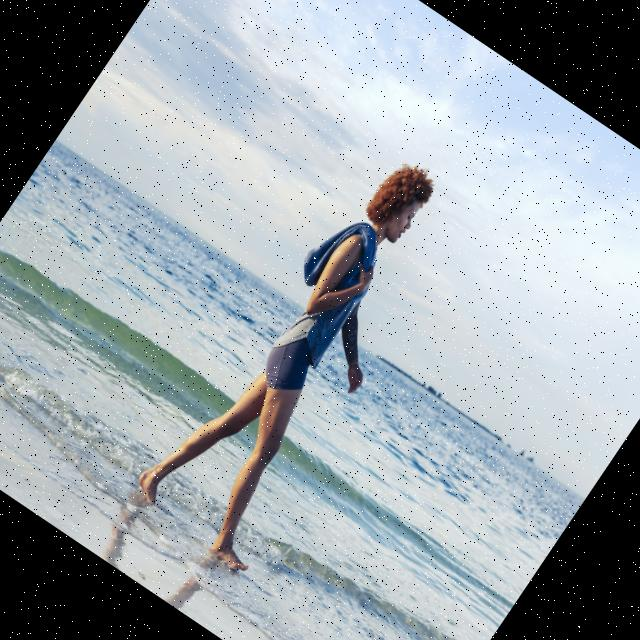Person: (124, 133, 488, 580)
